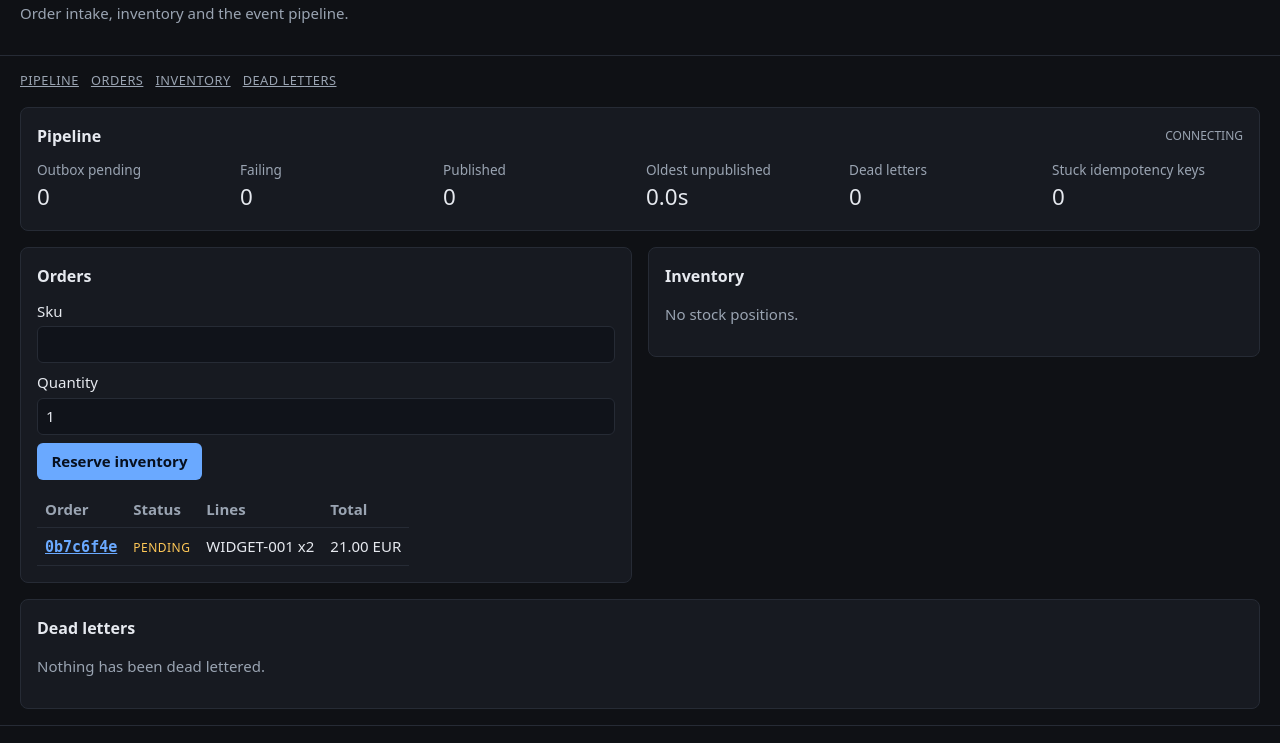
App › has no accessibility violations with an order detail open
The width and height of the screenshot is (1280, 743).
Click the button "0b7c6f4e" at (81, 546), box 45,535 -> 117,558
(page scrolled)
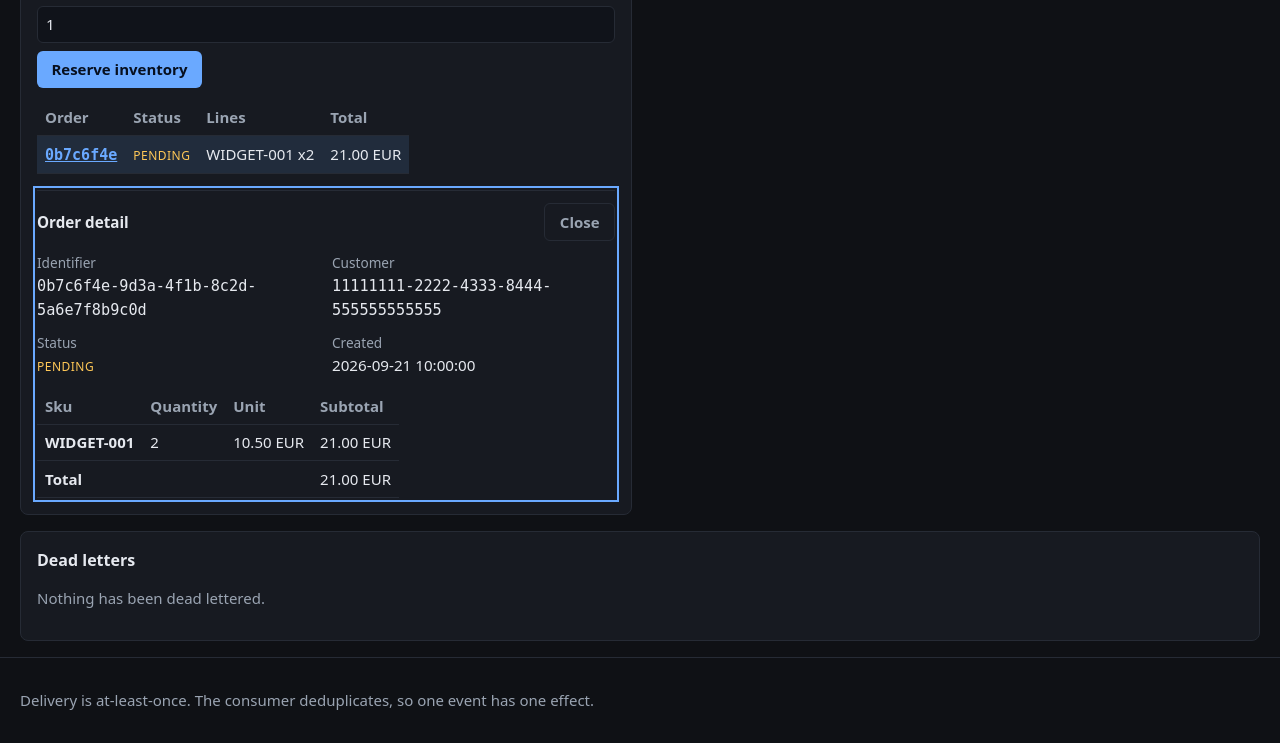
Expected: the element "Order detail" is shown, 37,190 -> 615,498
